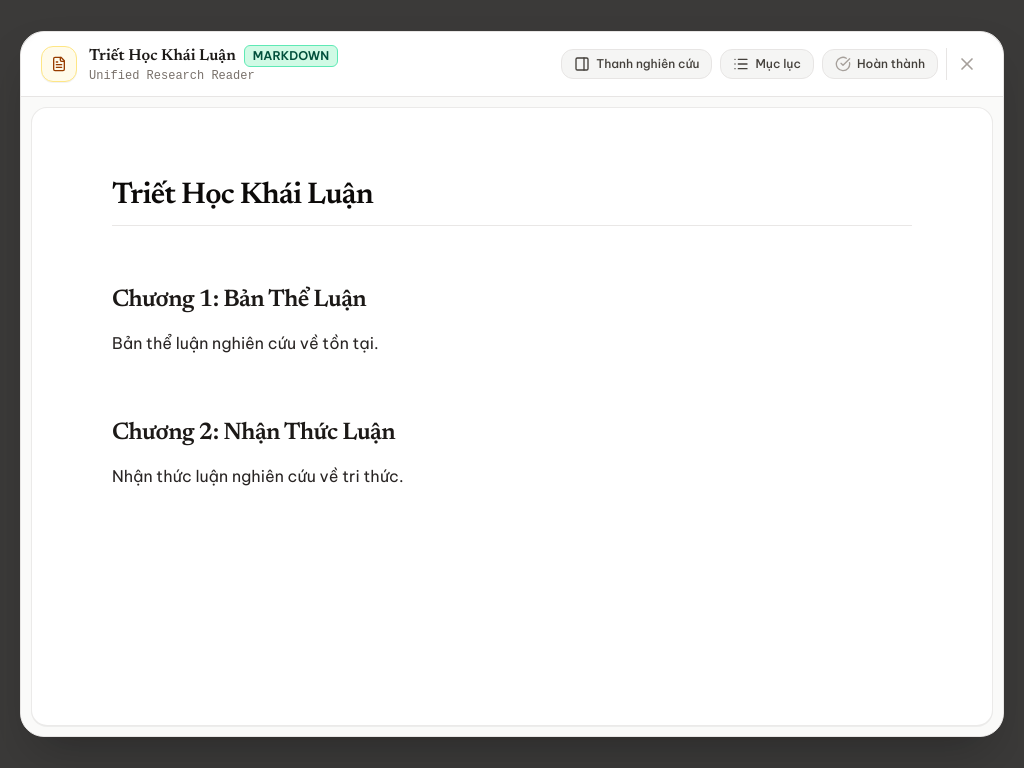
it: Phase 19 Suite B: ReaderSidebar Notes Tab Bidirectional Citation Navigation Integration › B3.1. unresolved cross-document citation shows gentle toast without changing document or crashing
The image size is (1024, 768).
Click the button with test id "reader-toggle-sidebar-btn": (637,64) x1=561 y1=49 x2=712 y2=79
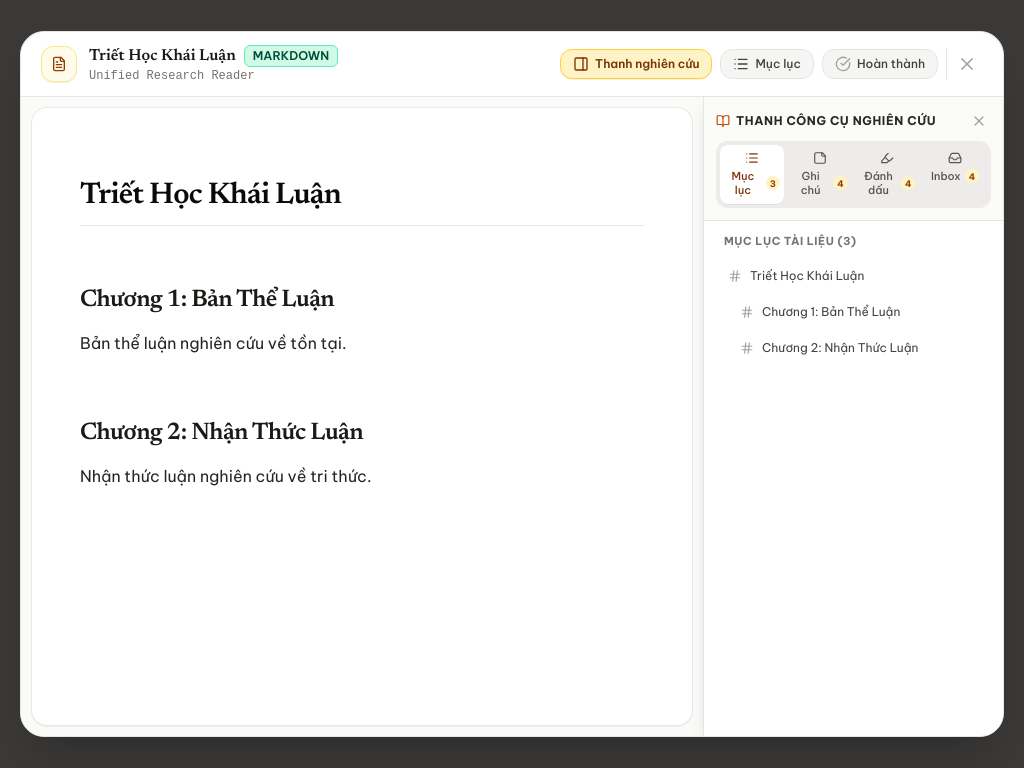
Click the tab with test id "sidebar-tab-notes": (820,174) x1=788 y1=145 x2=852 y2=204
(page scrolled)
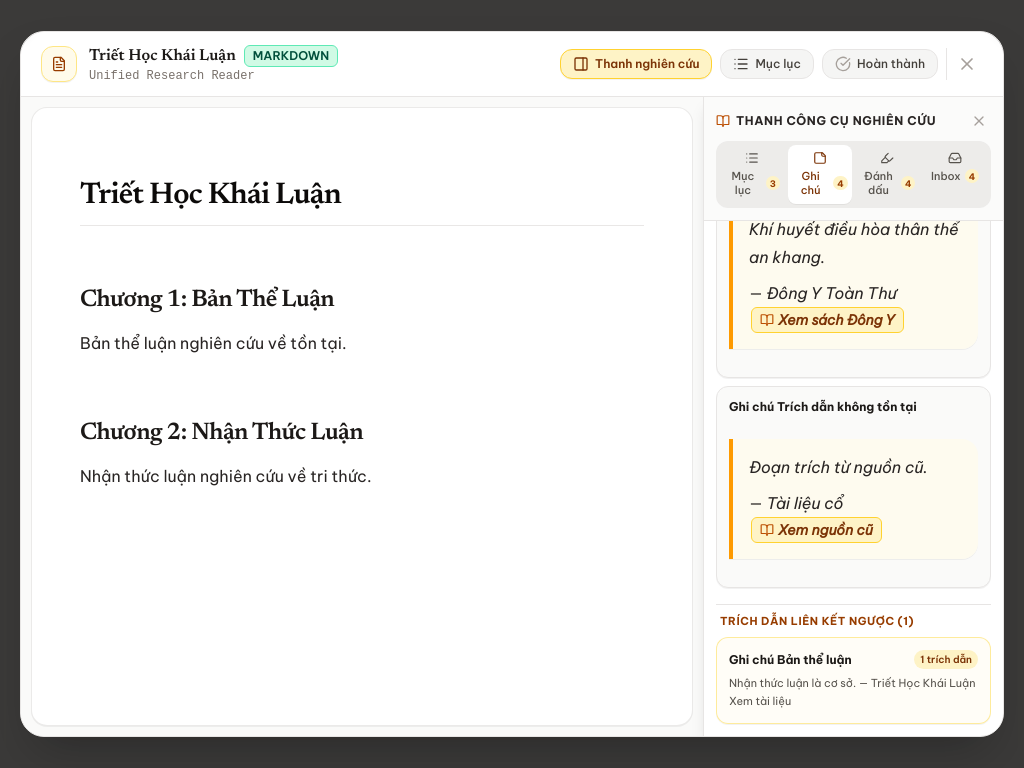
Check: the link "Xem nguồn cũ" is shown
Click the link "Xem nguồn cũ": (816,530) x1=751 y1=516 x2=882 y2=542
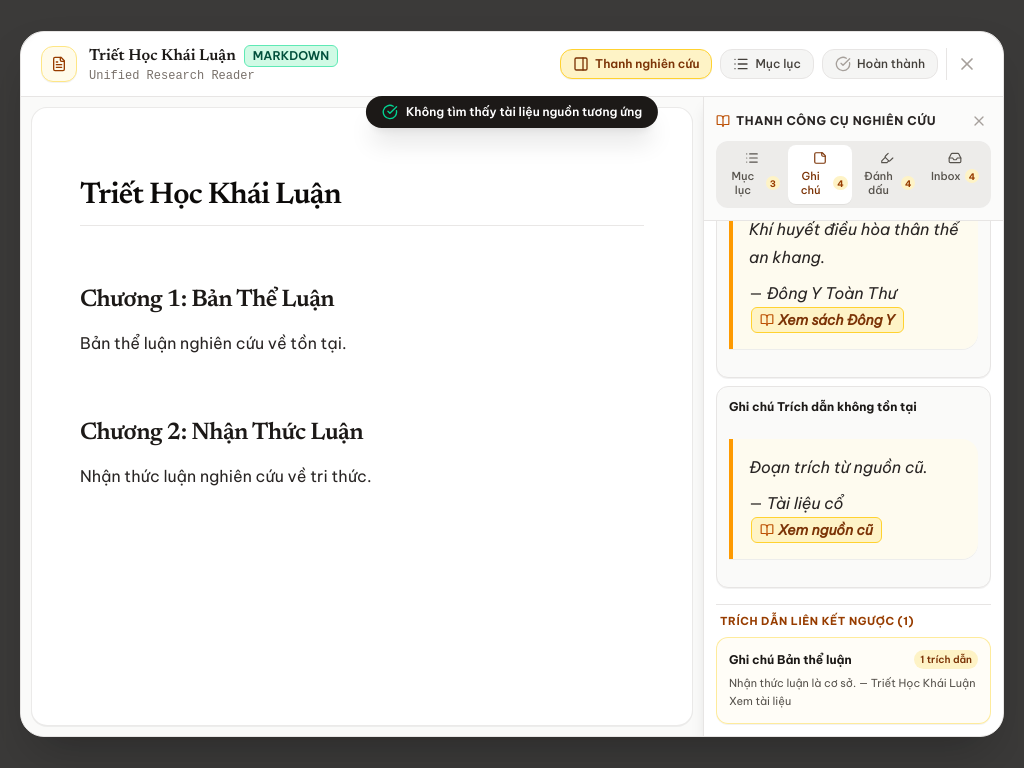
Check: the text "Không tìm thấy tài liệu nguồn tương ứng" is shown, box x1=406 y1=104 x2=642 y2=120
